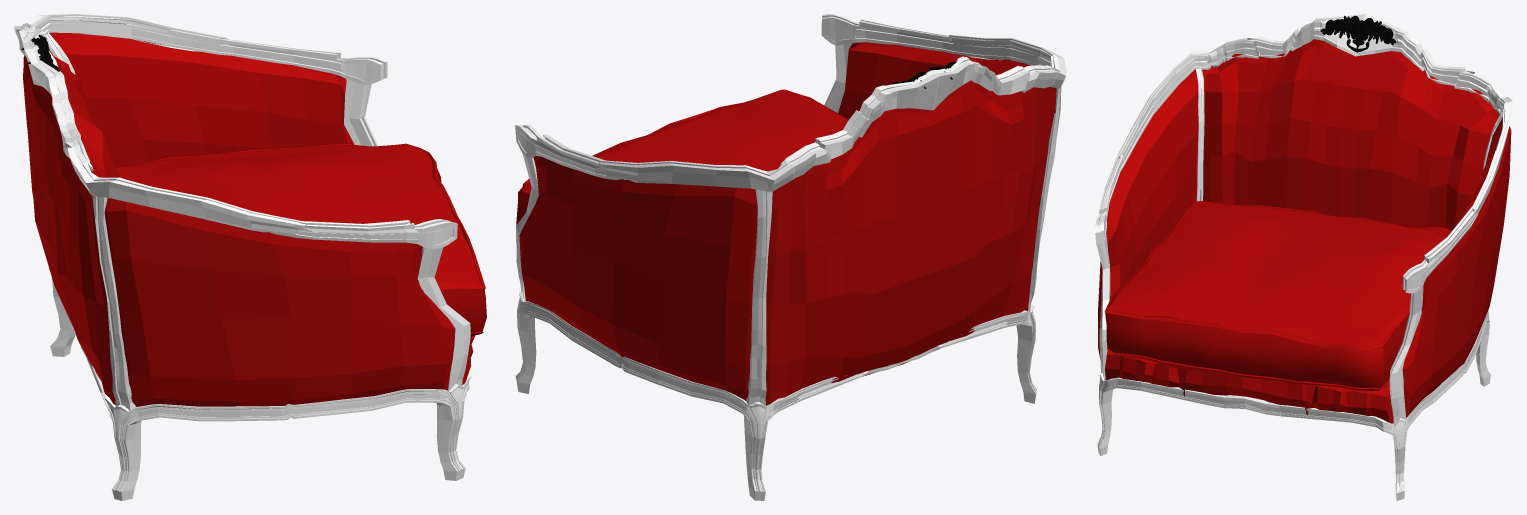
File: armchair.FBX
3 renders of one model, left to right at view 1: azimuth 30°, elevation 25°; view 2: azimuth 150°, elevation 25°; view 3: azimuth 270°, elevation 25°, orthographic. The views are drawn at different scales.
Visible parts, largest first — view 1: Kreslo01, Plane005, Plane006, sidenie008; view 2: Kreslo01, Plane005, sidenie008, Plane006; view 3: Plane006, sidenie008, Plane005, Kreslo01.
Part boxes in pixels (x1,y1,x2,y2): Kreslo01: [23, 38, 455, 406]; Plane005: [14, 14, 471, 500]; Plane006: [47, 32, 474, 384]; sidenie008: [116, 143, 486, 337]; Kreslo01: [519, 49, 1056, 405]; Plane005: [515, 14, 1066, 500]; sidenie008: [516, 89, 848, 224]; Plane006: [838, 42, 1056, 119]; Plane006: [1105, 39, 1502, 423]; sidenie008: [1104, 201, 1451, 390]; Plane005: [1095, 14, 1512, 500]; Kreslo01: [1098, 50, 1511, 417].
Size of the model in its own units: 1146 by 961 by 1114.
